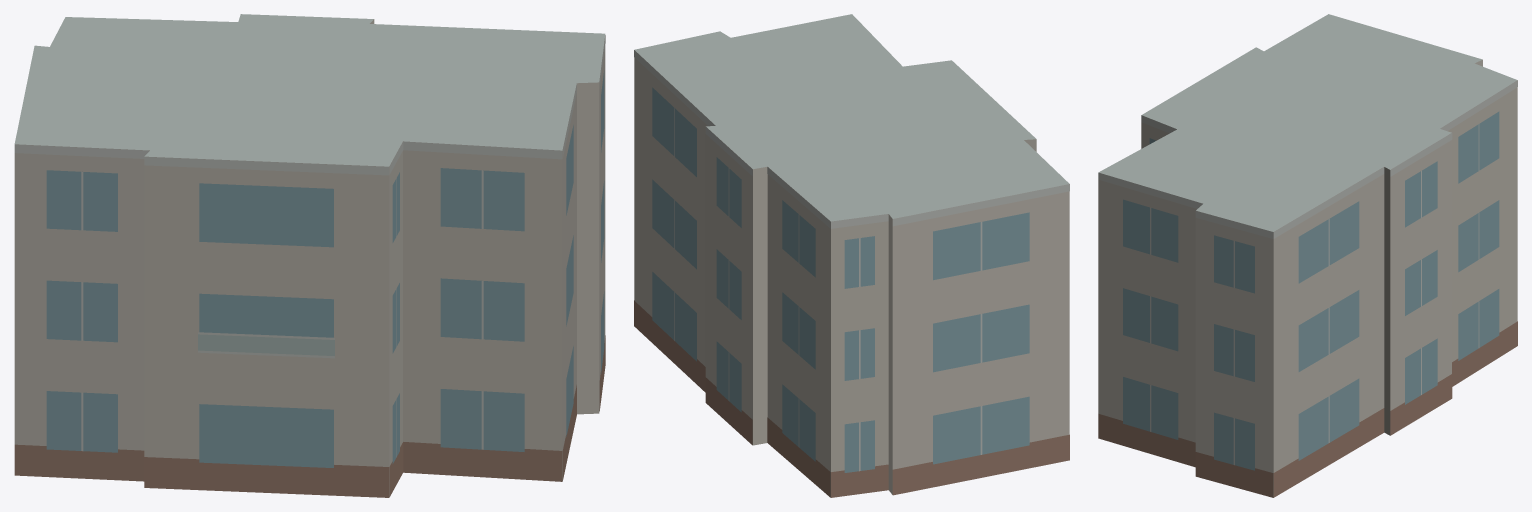
The model's file is survey-upis-32519103.glb.
3 renders of one model, left to right at view 1: azimuth 30°, elevation 25°; view 2: azimuth 150°, elevation 25°; view 3: azimuth 270°, elevation 25°, orthographic. The views are drawn at different scales.
Parts seen in each view (by area): view 1: survey-upis-32519103.tmp; view 2: survey-upis-32519103.tmp; view 3: survey-upis-32519103.tmp.
Boxes of the visible parts, x1=… form: survey-upis-32519103.tmp: x1=14, y1=14, x2=605, y2=497; survey-upis-32519103.tmp: x1=634, y1=14, x2=1069, y2=497; survey-upis-32519103.tmp: x1=1098, y1=14, x2=1517, y2=497.
Bounding box in the file's own units: 16.1 × 9.15 × 13.09.
